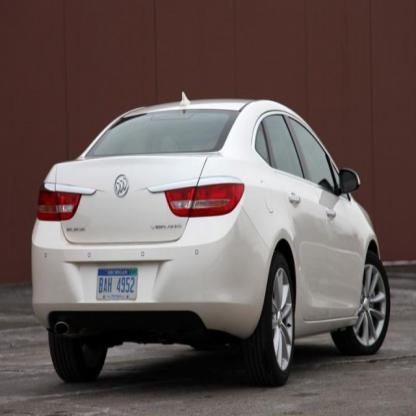car: (33, 91, 391, 386)
